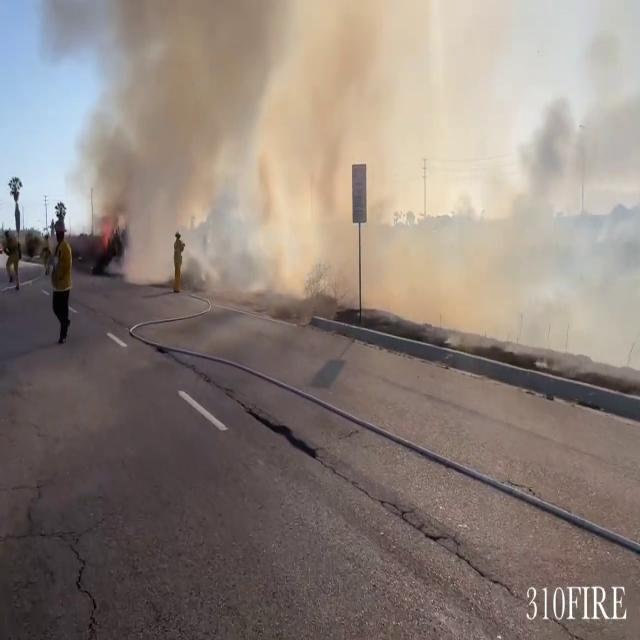Smoke: (81, 0, 636, 285)
